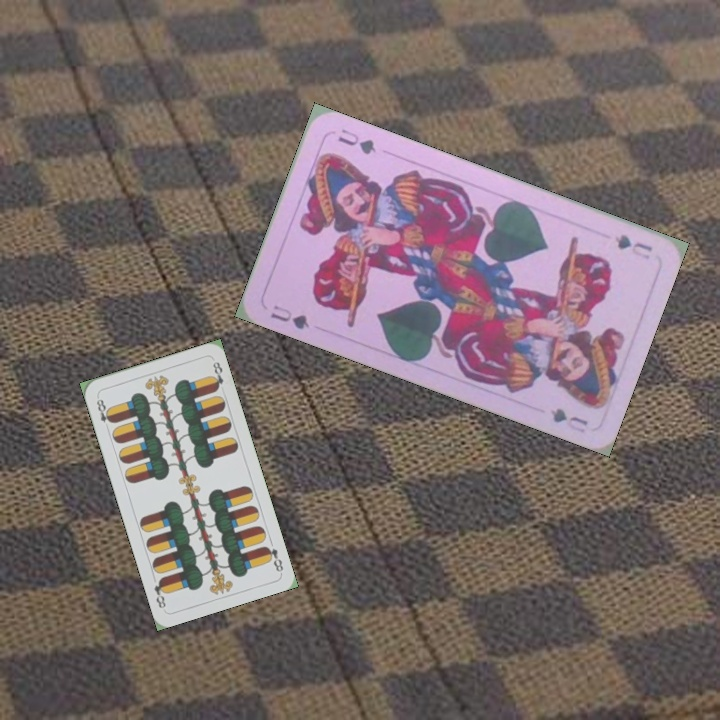E8: (261, 542, 286, 575), (92, 392, 115, 426)
GU: (266, 300, 312, 332), (610, 230, 655, 262)
